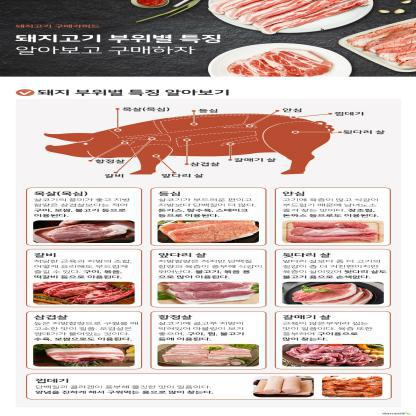pork: (221, 2, 355, 29), (226, 50, 333, 76), (284, 342, 385, 368), (32, 344, 138, 367), (162, 280, 262, 304), (282, 221, 386, 244), (32, 283, 136, 306), (154, 344, 262, 366), (32, 221, 134, 244), (279, 282, 377, 304), (354, 30, 416, 64), (162, 222, 254, 244)
